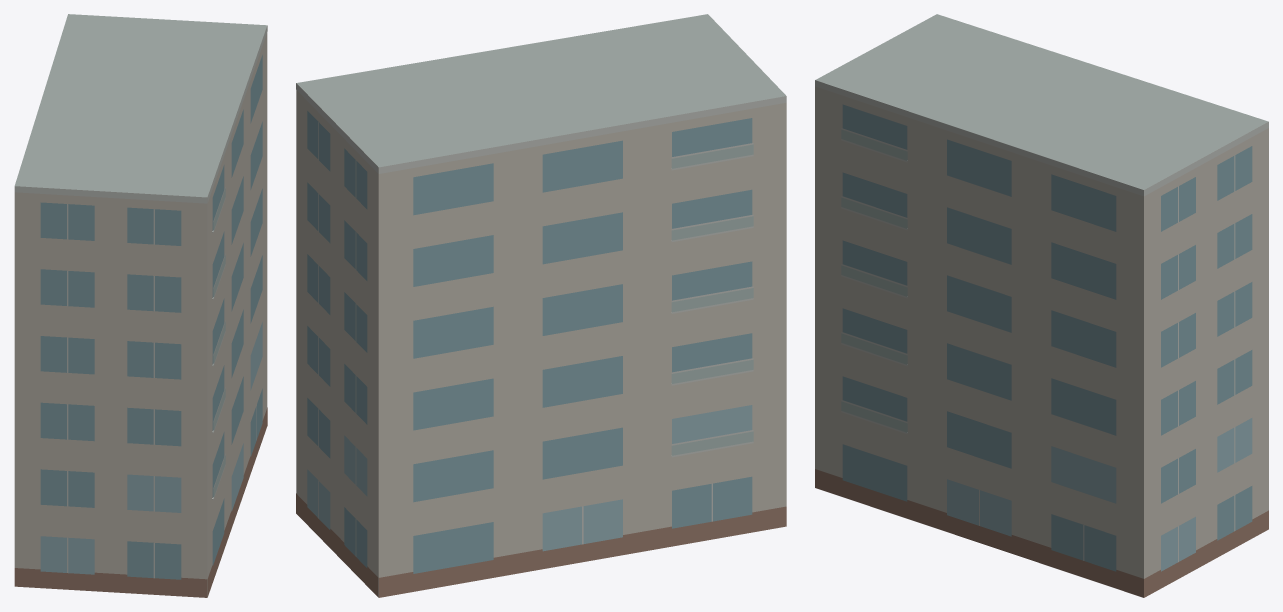
Rendered from survey-upis-32885560.glb.
The picture shows the model from 3 angles, left to right: view 1: azimuth 30°, elevation 25°; view 2: azimuth 150°, elevation 25°; view 3: azimuth 270°, elevation 25°; orthographic projection. The views are drawn at different scales.
Parts seen in each view (by area): view 1: survey-upis-32885560.tmp; view 2: survey-upis-32885560.tmp; view 3: survey-upis-32885560.tmp.
Part boxes in pixels (<box>): survey-upis-32885560.tmp: <box>14,14,267,597</box>; survey-upis-32885560.tmp: <box>296,14,786,597</box>; survey-upis-32885560.tmp: <box>815,14,1268,597</box>.
Size of the model in its own units: 14.6 by 15.75 by 15.89.
